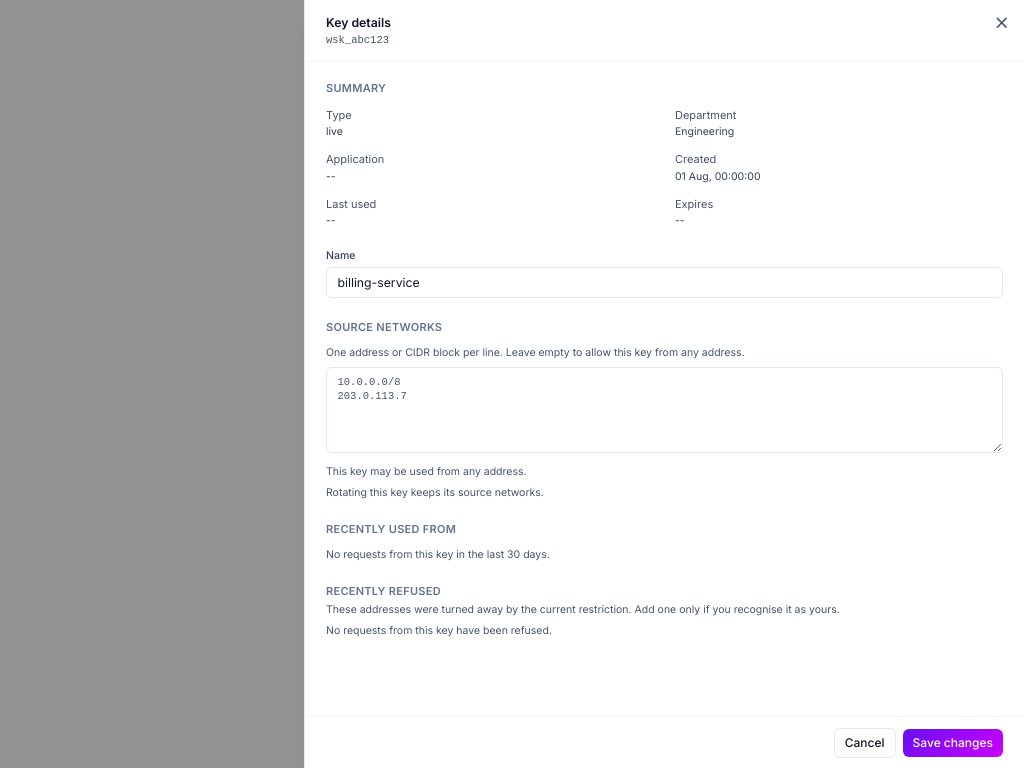
KeyDetailDrawer after saving › shows the stored networks rather than the ones that were typed
The width and height of the screenshot is (1024, 768).
In the text box named "Source networks": [664, 410] box [326, 367, 1003, 453], type "10.0.0.1/8"
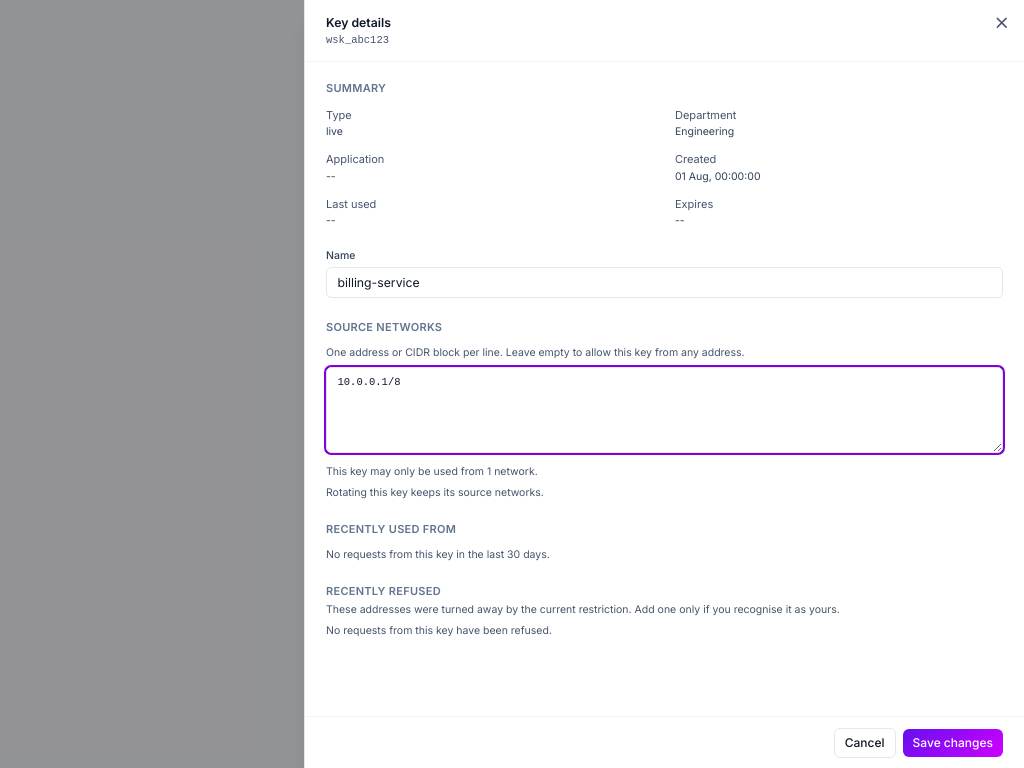
Click the button "Save changes": [953, 742] box [903, 728, 1003, 756]
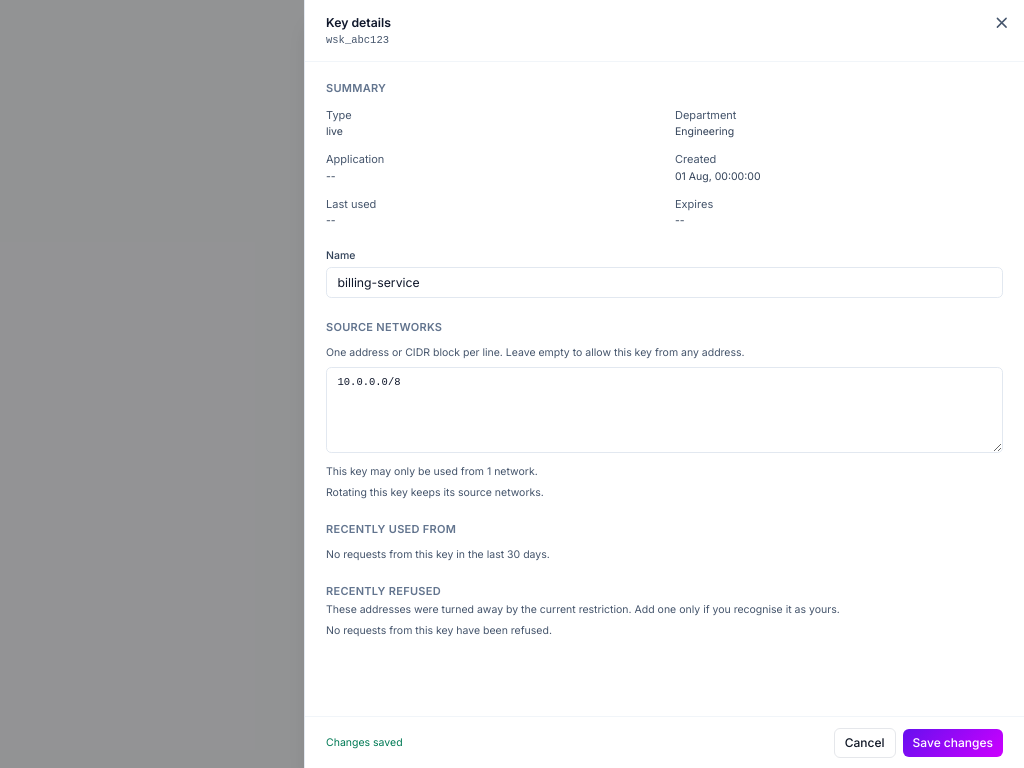
Check: the text box named "Source networks" holds "10.0.0.0/8", box [326, 367, 1003, 453]
